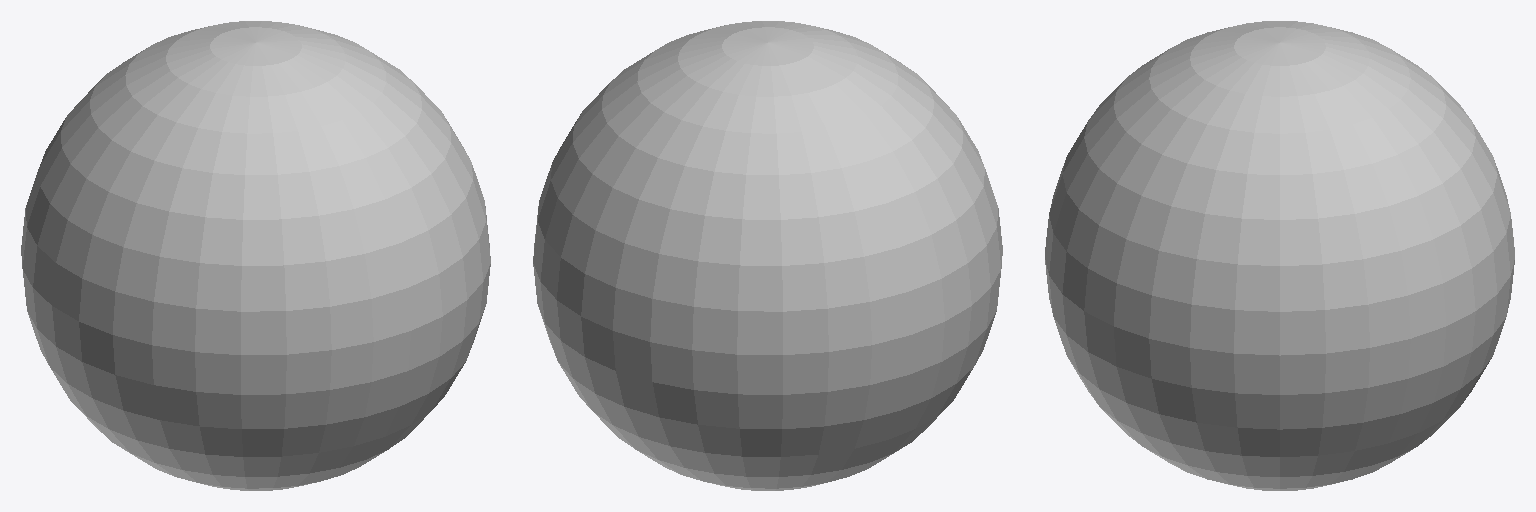
File: unit_sphere.obj
The picture shows the model from 3 angles: view 1: azimuth 30°, elevation 25°; view 2: azimuth 150°, elevation 25°; view 3: azimuth 270°, elevation 25°; orthographic projection.
Parts seen in each view (by area): view 1: Sphere; view 2: Sphere; view 3: Sphere.
Part boxes in pixels (bbox=[...]): Sphere: bbox=[21, 21, 490, 490]; Sphere: bbox=[533, 21, 1002, 490]; Sphere: bbox=[1045, 21, 1514, 490].
Size of the model in its own units: 1.6 by 1.6 by 1.6.